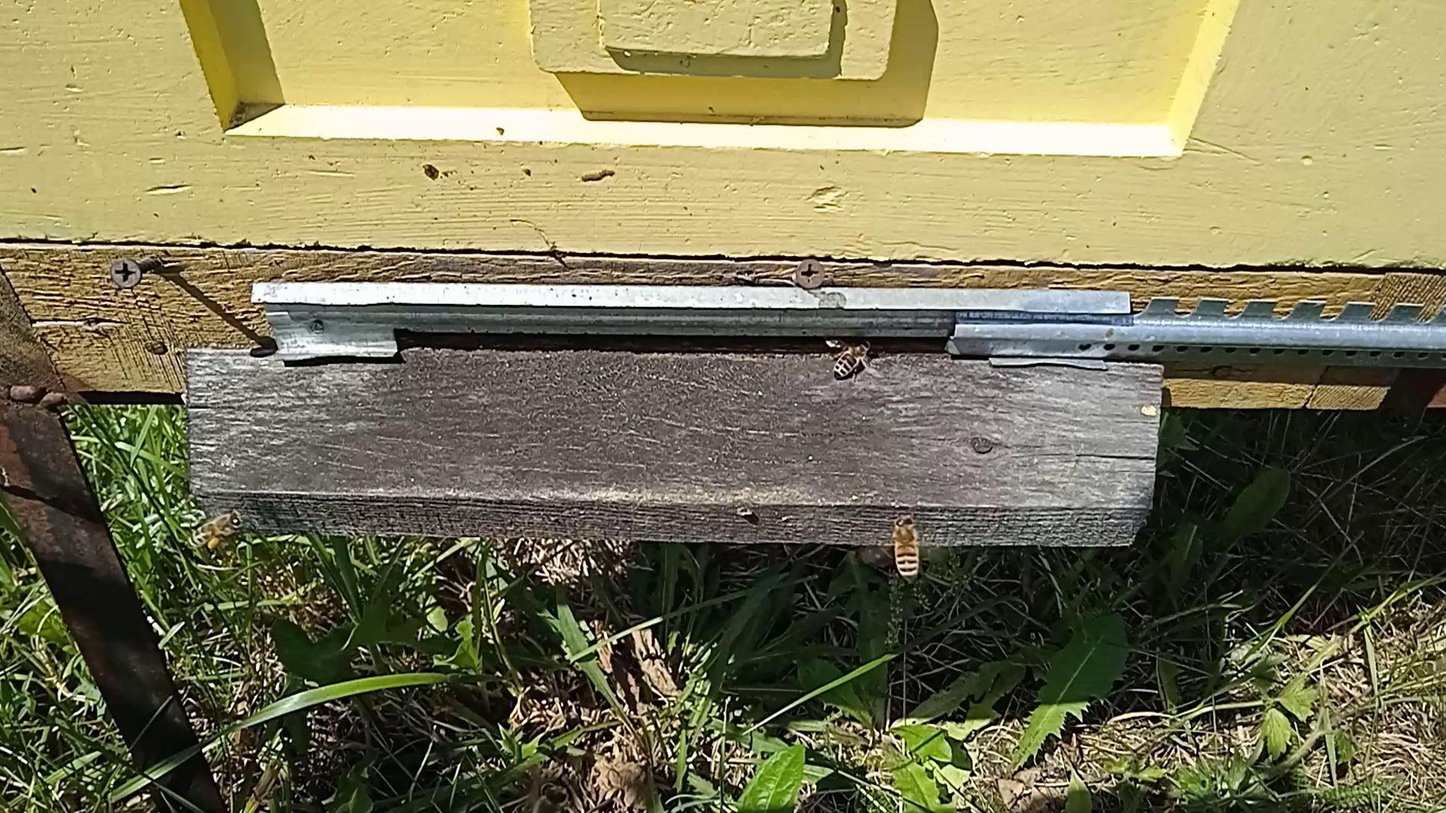worker-bee: (189, 510, 245, 548), (892, 513, 922, 582), (831, 338, 874, 379), (1044, 757, 1066, 780)
